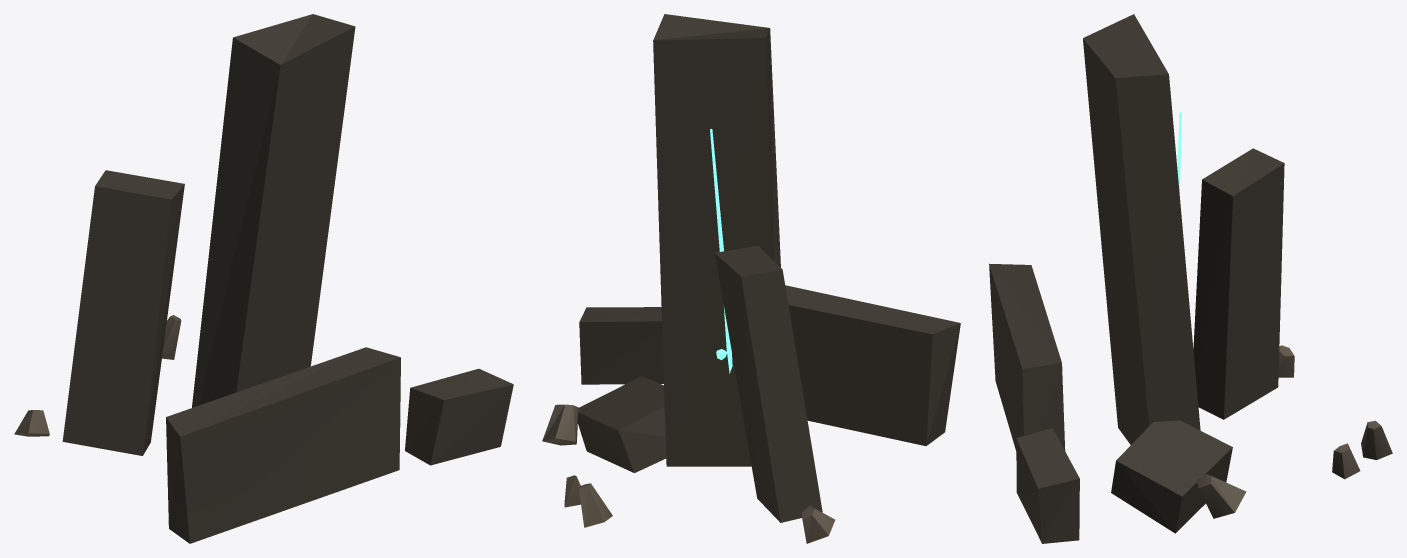
File: alien_ruin.glb
The picture shows the model from 3 angles, left to right: view 1: azimuth 30°, elevation 25°; view 2: azimuth 150°, elevation 25°; view 3: azimuth 270°, elevation 25°; orthographic projection. The views are drawn at different scales.
Parts seen in each view (by area): view 1: alien_ruin; view 2: alien_ruin; view 3: alien_ruin.
Part boxes in pixels (bbox=[...]): alien_ruin: bbox=[14, 14, 513, 543]; alien_ruin: bbox=[542, 14, 960, 543]; alien_ruin: bbox=[989, 14, 1392, 543].
Size of the model in its own units: 5.03 by 5.75 by 4.76.
